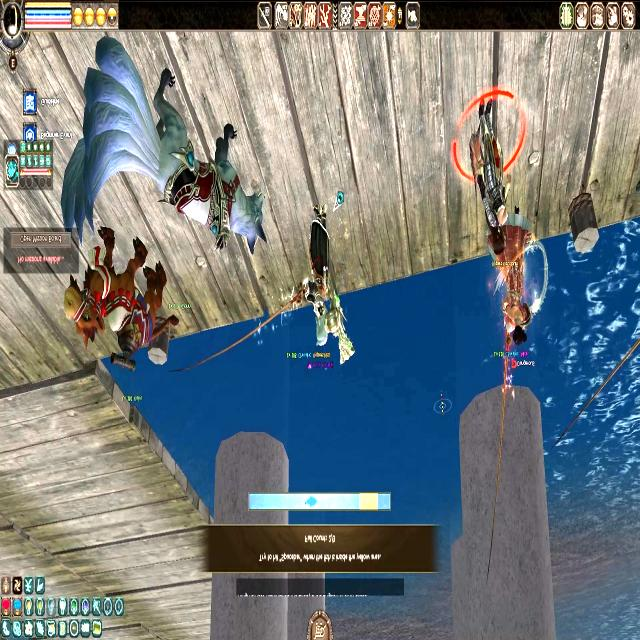fishes: (304, 494, 318, 509)
